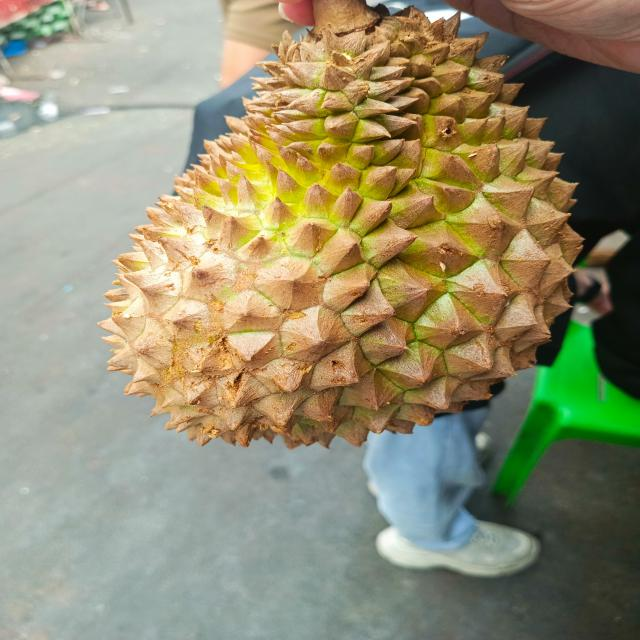mature: (100, 0, 581, 448)
